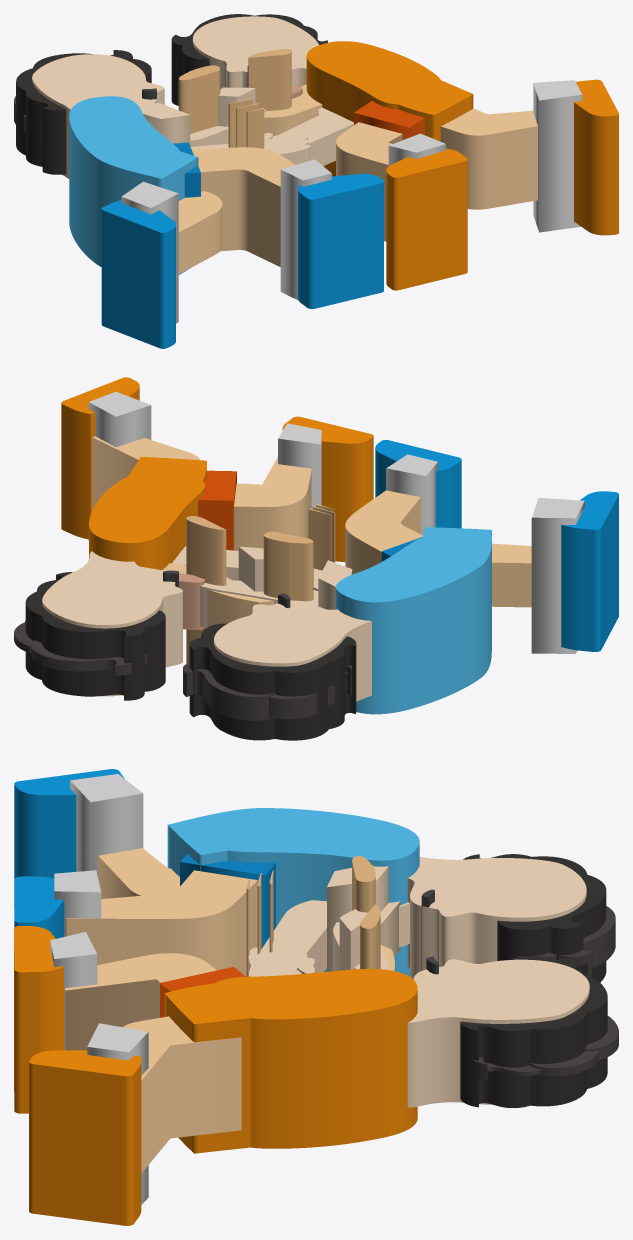
Rendered from emoji_u1f93c_1f3fb.glb.
The picture shows the model from 3 angles, top to bottom: view 1: azimuth 30°, elevation 25°; view 2: azimuth 150°, elevation 25°; view 3: azimuth 270°, elevation 25°; orthographic projection. The views are drawn at different scales.
Parts seen in each view (by area): view 1: emoji_u1f93c_1f3fb; view 2: emoji_u1f93c_1f3fb; view 3: emoji_u1f93c_1f3fb.
Part boxes in pixels (x1,y1,x2,y2): emoji_u1f93c_1f3fb: (14,14,618,348); emoji_u1f93c_1f3fb: (14,377,618,740); emoji_u1f93c_1f3fb: (14,769,618,1225).
Bounding box in the file's own units: 0.0328 × 0.0092 × 0.0271.
